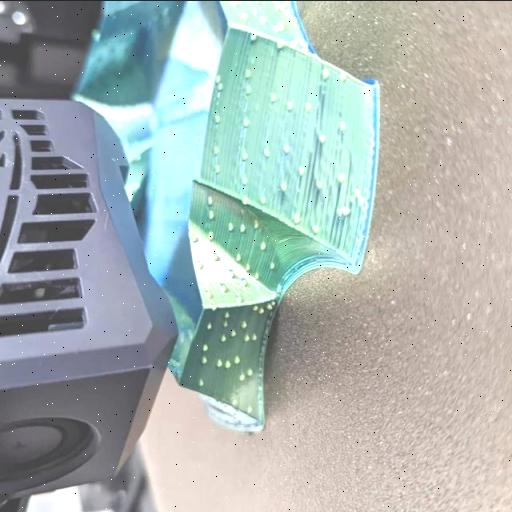blobs: (334, 200, 350, 222), (270, 17, 288, 33), (316, 130, 332, 146), (246, 29, 262, 43), (224, 217, 238, 233), (210, 110, 224, 124), (334, 171, 348, 184), (284, 96, 294, 114), (268, 90, 278, 107), (338, 120, 351, 133), (238, 150, 252, 162), (278, 180, 290, 194), (320, 68, 332, 82), (205, 192, 215, 208), (214, 354, 224, 370), (214, 81, 228, 92), (281, 142, 292, 156), (240, 174, 251, 188), (309, 222, 320, 236), (296, 164, 307, 178), (259, 14, 271, 26), (258, 194, 271, 205), (188, 231, 199, 244), (238, 12, 252, 22), (242, 66, 252, 80), (240, 196, 254, 206), (234, 250, 244, 264), (268, 258, 278, 272), (238, 220, 248, 234), (291, 212, 301, 226), (316, 178, 326, 192), (340, 68, 350, 82), (236, 370, 246, 384), (199, 354, 210, 366), (231, 396, 243, 407), (250, 3, 260, 16), (244, 82, 254, 95), (210, 250, 220, 263), (304, 100, 314, 113), (275, 38, 284, 52), (262, 148, 272, 160), (225, 268, 237, 278), (242, 260, 252, 272), (250, 268, 260, 280), (258, 239, 268, 251), (242, 331, 252, 343), (244, 364, 254, 376), (225, 308, 233, 322), (212, 163, 222, 174), (218, 283, 228, 294), (202, 319, 213, 329), (266, 300, 276, 311), (242, 116, 252, 126), (207, 210, 217, 220), (252, 220, 262, 230), (206, 290, 216, 300), (220, 320, 230, 330), (228, 326, 238, 336), (248, 302, 258, 312), (256, 306, 266, 316), (208, 230, 216, 242), (250, 331, 258, 343), (196, 260, 205, 270), (218, 332, 226, 343), (202, 343, 210, 353), (196, 380, 204, 390), (224, 360, 232, 370), (234, 354, 240, 364), (240, 320, 246, 330), (212, 147, 220, 153)
